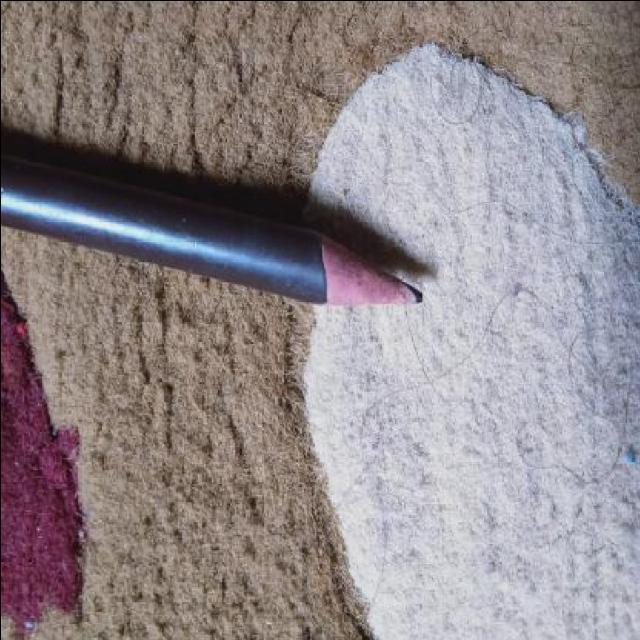pencil: (308, 220, 436, 312)
